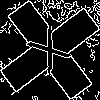X: (25, 25, 80, 81)
